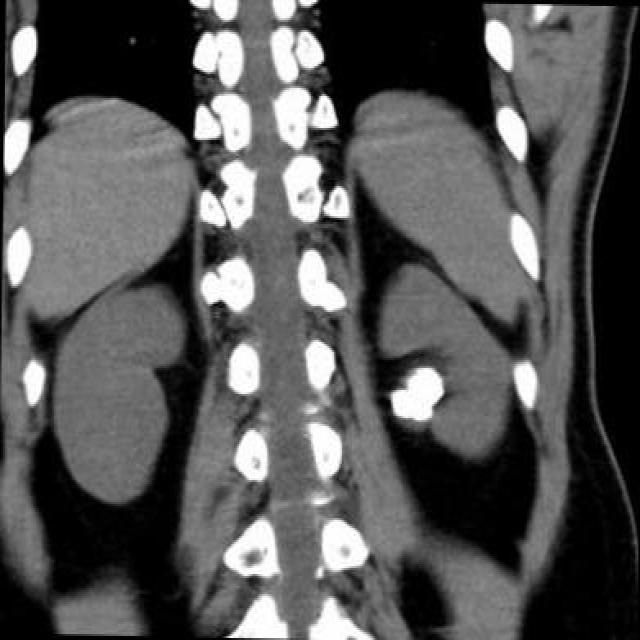Tas_Var: (386, 387, 434, 425), (406, 364, 444, 400)
